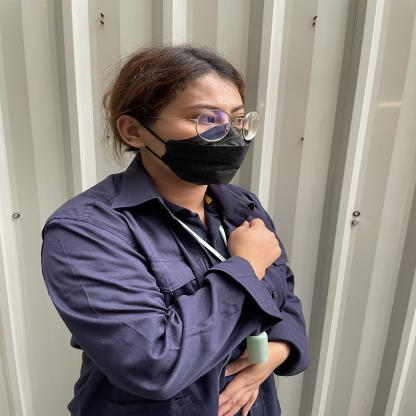Sadness: (43, 214, 332, 340)
